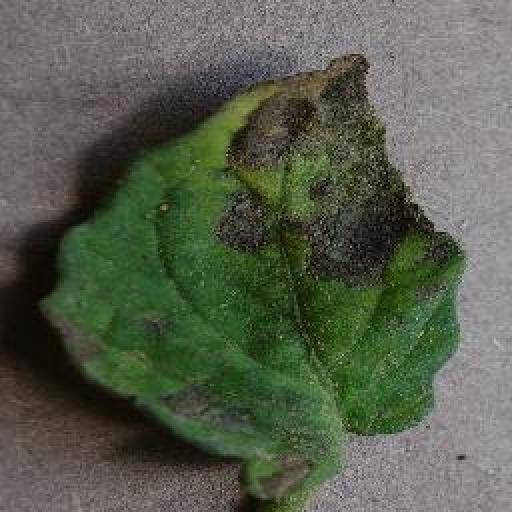disease_tomato: (47, 49, 468, 512)
